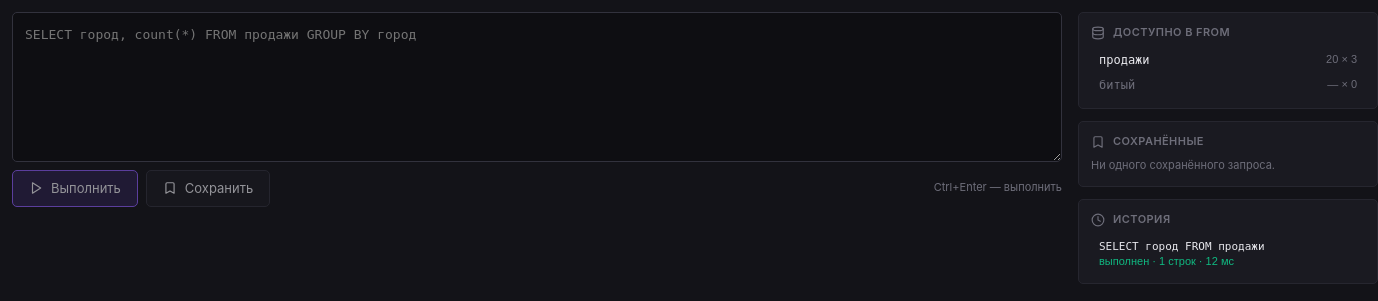
Scenario: окно SQL › запрос из истории возвращается в редактор
The width and height of the screenshot is (1378, 301).
Click the text "SELECT город FROM продажи" at x=1182, y=246, box x1=1099 y1=240 x2=1265 y2=253
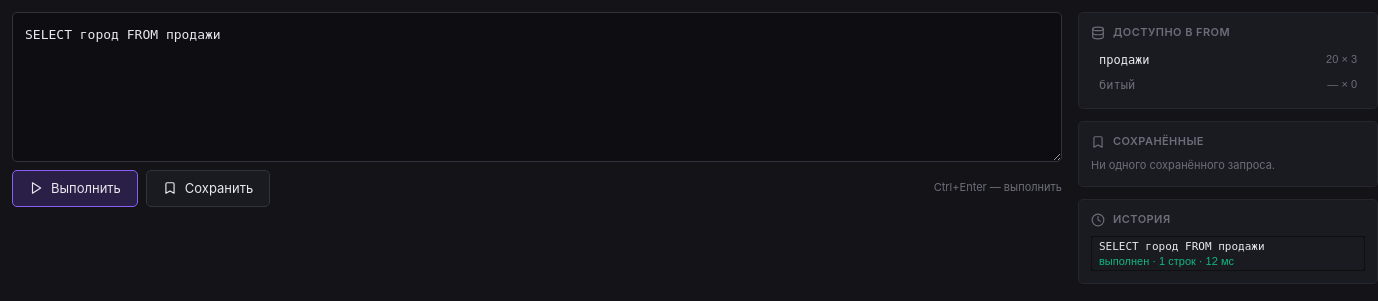
Result: the text box named "Текст SQL-запроса" holds "SELECT город FROM продажи" at x1=12 y1=12 x2=1062 y2=162
